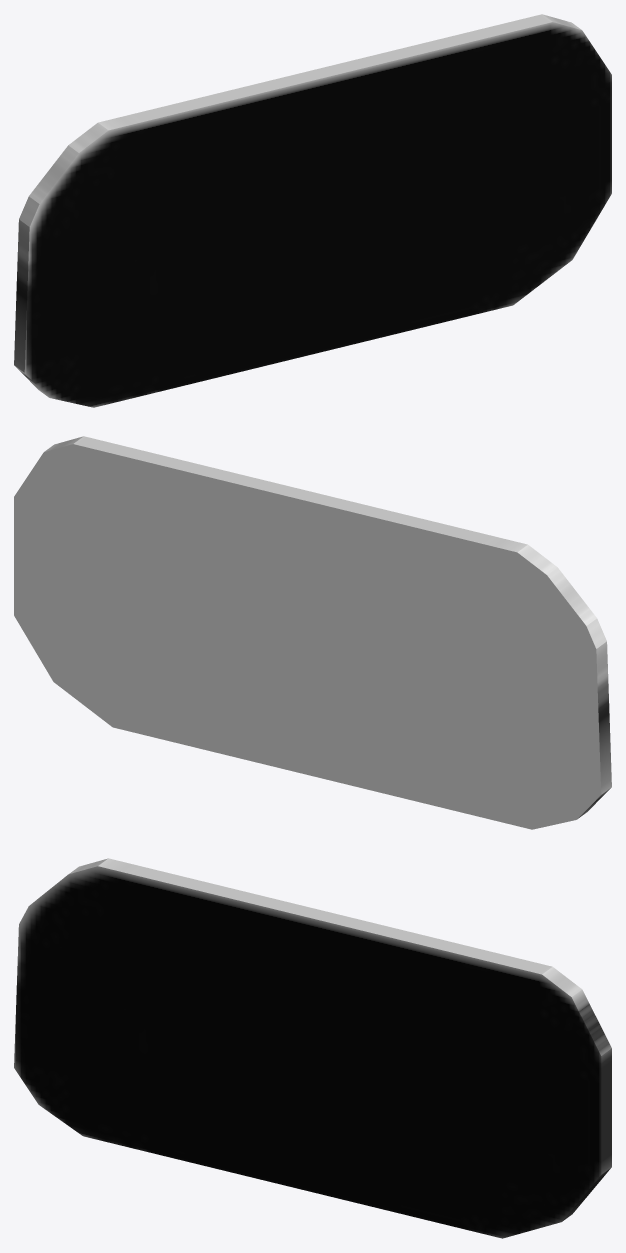
Rendered from lateralCheck.fbx.
The picture shows the model from 3 angles, top to bottom: view 1: azimuth 30°, elevation 25°; view 2: azimuth 150°, elevation 25°; view 3: azimuth 330°, elevation 25°; orthographic projection.
Visible parts, largest first — view 1: node_id31; view 2: node_id31 (×2); view 3: node_id31.
Part boxes in pixels (bbox=[...]): node_id31: bbox=[14, 14, 611, 407]; node_id31 (×2): bbox=[14, 436, 611, 829]; node_id31: bbox=[14, 858, 611, 1238].
Bounding box in the file's own units: 0.512 × 0.228 × 0.0162.
Materials: 2 (1 with a texture image).
